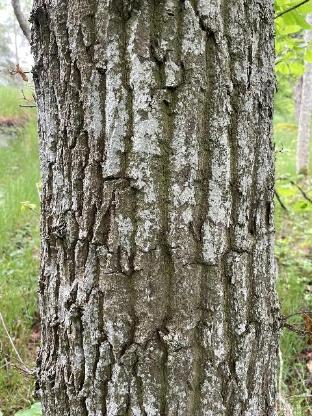tree: (22, 0, 302, 416)
